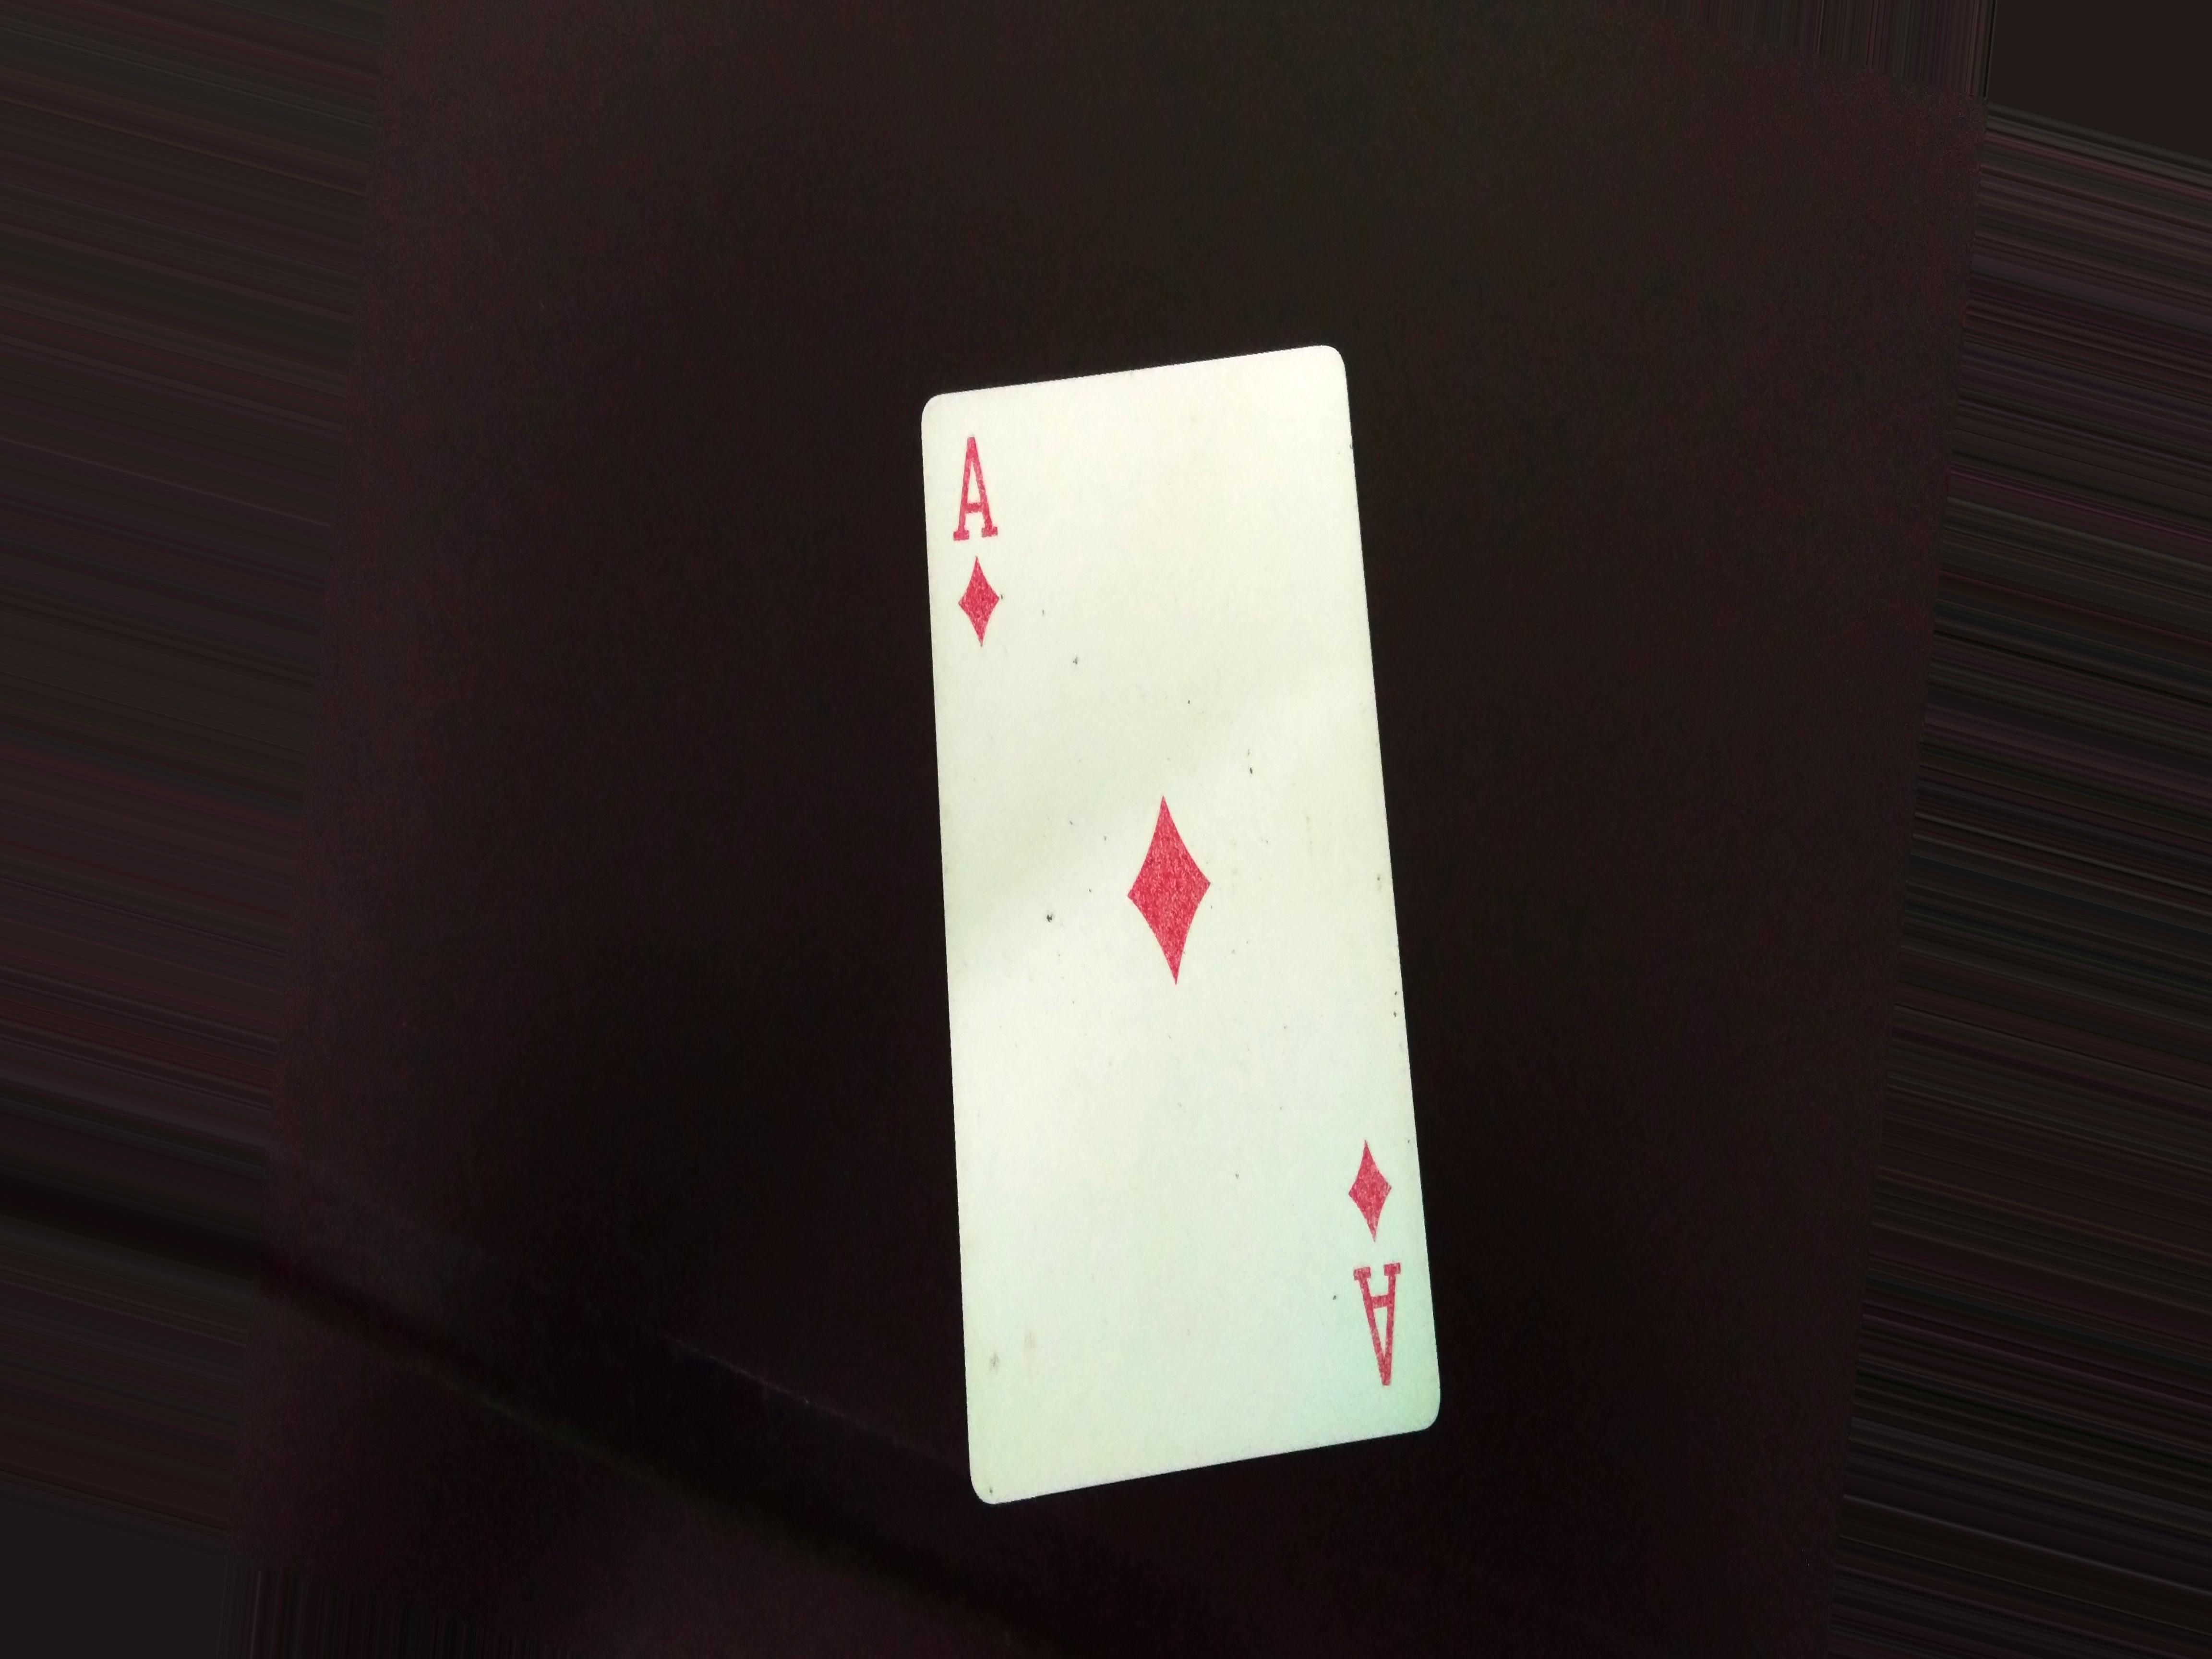AD: (1322, 1108, 1411, 1406)
